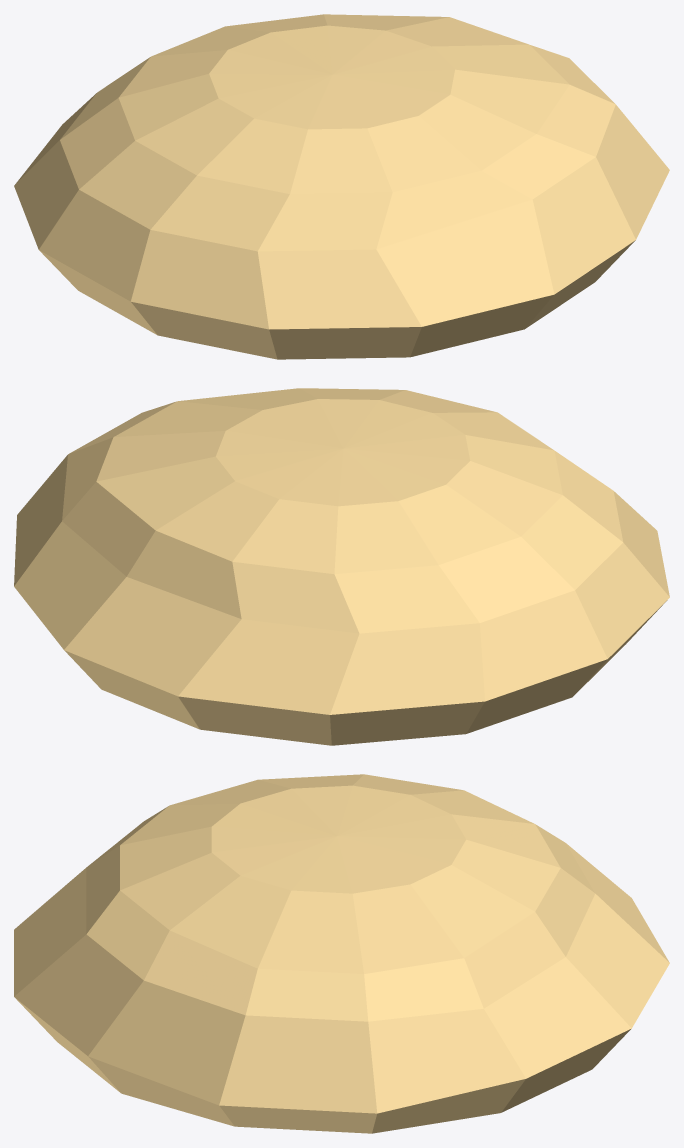
The model's file is island2 (1).fbx.
The picture shows the model from 3 angles, top to bottom: view 1: azimuth 30°, elevation 25°; view 2: azimuth 150°, elevation 25°; view 3: azimuth 270°, elevation 25°; orthographic projection. The views are drawn at different scales.
Parts seen in each view (by area): view 1: Sphere; view 2: Sphere; view 3: Sphere.
Part boxes in pixels (x1,y1,x2,y2): Sphere: (14,14,669,359); Sphere: (14,388,669,745); Sphere: (14,774,669,1133).
Size of the model in its own units: 3634 by 1326 by 3479.
